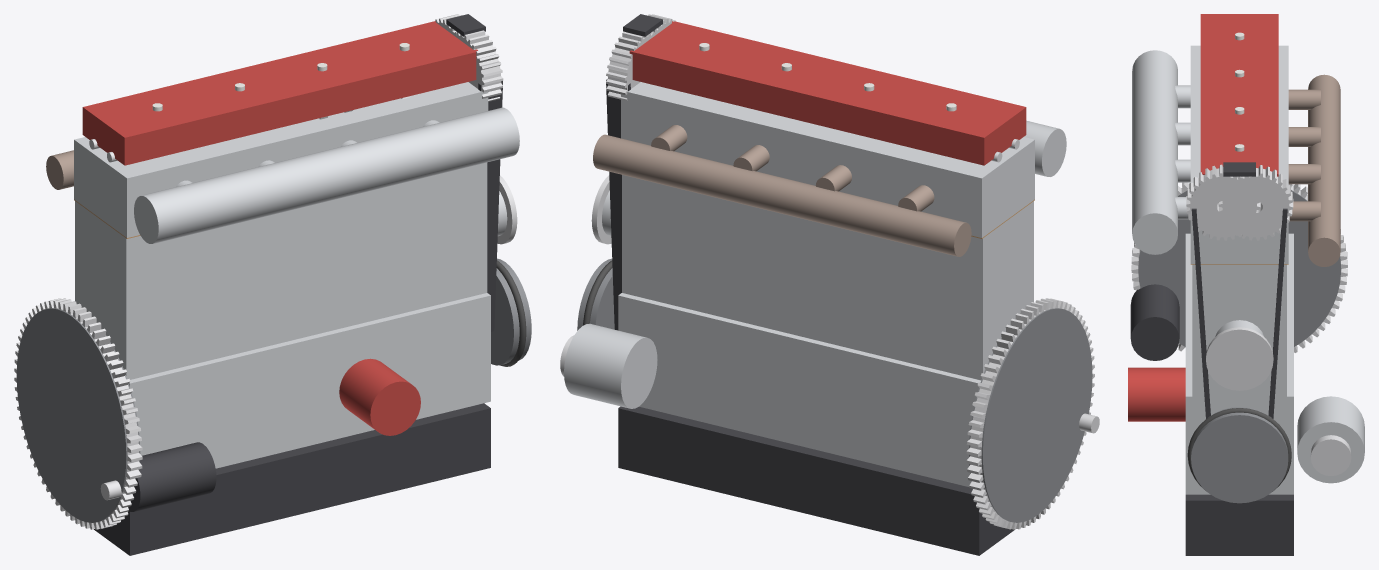
Rendered from combustion_4_linea_90p0_8p6_8p6_dohc_4_no_correa_nafta.glb.
The picture shows the model from 3 angles, left to right: view 1: azimuth 30°, elevation 25°; view 2: azimuth 150°, elevation 25°; view 3: azimuth 270°, elevation 25°; orthographic projection. The views are drawn at different scales.
Parts seen in each view (by area): view 1: bloque, tapa_valvulas_0, carter, volante_inercia, multiple_admision_0, culata_0, motor_arranque, filtro_aceite, polea_ciguenal, distribucion_correa, distribucion_poleas, bomba_agua (+1 smaller); view 2: bloque, tapa_valvulas_0, carter, culata_0, volante_inercia, multiple_escape_0, alternador, distribucion_correa, polea_ciguenal, distribucion_poleas, multiple_admision_0, bomba_agua; view 3: bloque, tapa_valvulas_0, multiple_admision_0, polea_ciguenal, multiple_escape_0, volante_inercia, carter, distribucion_poleas, culata_0, alternador, bomba_agua, motor_arranque (+2 smaller).
Part boxes in pixels (<box>): bloque: <box>75,162,490,468</box>; tapa_valvulas_0: <box>82,21,477,165</box>; carter: <box>94,403,490,555</box>; volante_inercia: <box>14,298,142,529</box>; multiple_admision_0: <box>134,107,519,243</box>; culata_0: <box>74,82,488,237</box>; motor_arranque: <box>100,442,216,511</box>; filtro_aceite: <box>339,358,420,435</box>; polea_ciguenal: <box>491,258,531,366</box>; distribucion_correa: <box>446,14,502,331</box>; distribucion_poleas: <box>433,14,503,101</box>; bomba_agua: <box>497,175,517,244</box>; bloque: <box>618,175,1033,487</box>; tapa_valvulas_0: <box>629,21,1026,165</box>; carter: <box>618,406,1014,555</box>; culata_0: <box>621,82,1034,237</box>; volante_inercia: <box>966,298,1094,529</box>; multiple_escape_0: <box>593,125,971,256</box>; alternador: <box>560,323,657,408</box>; distribucion_correa: <box>606,14,662,330</box>; polea_ciguenal: <box>577,258,614,330</box>; distribucion_poleas: <box>606,14,675,100</box>; multiple_admision_0: <box>1024,120,1066,176</box>; bomba_agua: <box>591,175,611,244</box>; bloque: <box>1185,233,1293,494</box>; tapa_valvulas_0: <box>1200,14,1278,176</box>; multiple_admision_0: <box>1132,50,1190,254</box>; polea_ciguenal: <box>1187,407,1291,503</box>; multiple_escape_0: <box>1288,74,1340,266</box>; volante_inercia: <box>1131,182,1347,352</box>; carter: <box>1185,494,1293,555</box>; distribucion_poleas: <box>1186,164,1293,240</box>; culata_0: <box>1190,45,1288,263</box>; alternador: <box>1297,396,1364,483</box>; bomba_agua: <box>1206,320,1273,390</box>; motor_arranque: <box>1130,284,1179,360</box>.
Bounding box in the file's own units: 60.54 × 54.77 × 30.1.
